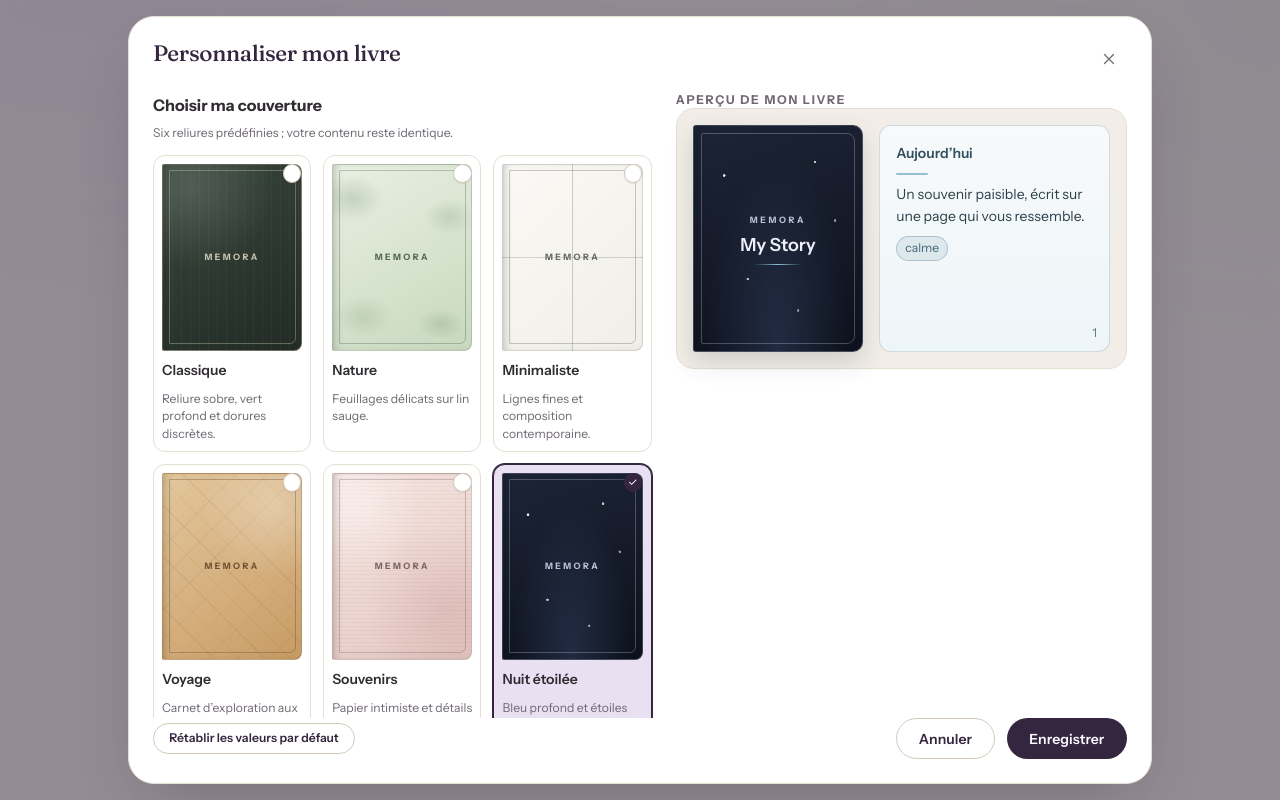
BookCustomizationDialog › restores the default draft without persisting it
This screenshot has width=1280, height=800.
Click the button "Rétablir les valeurs par défaut" at coordinates (254, 739), box [153, 723, 355, 754]
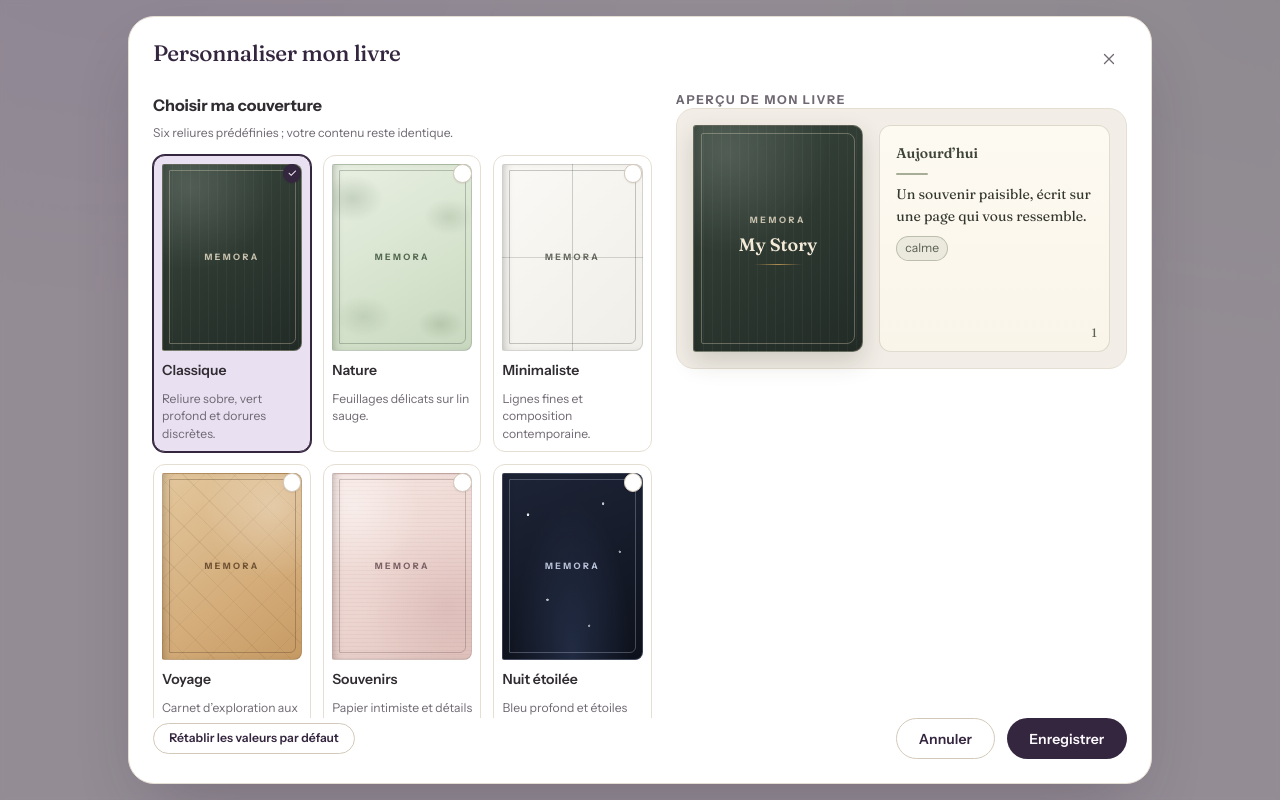
Expected: the radio button labelled "Classique" is checked, [153, 155, 311, 452]
Expected: the picture named "couverture Classique, thème Papier classique, typographie Éditorial" is shown, [676, 108, 1127, 369]
